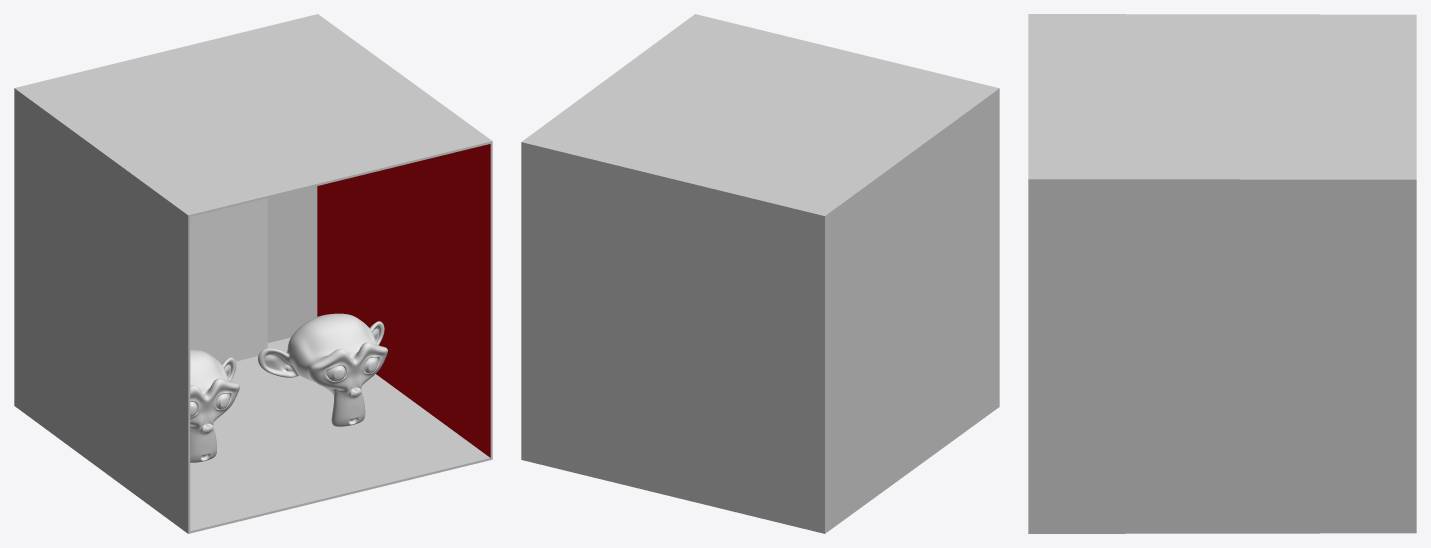
The model's file is Suzanne-Box.glb.
3 views of the same model, side by side, from view 1: azimuth 30°, elevation 25°; view 2: azimuth 150°, elevation 25°; view 3: azimuth 270°, elevation 25° (orthographic). The views are drawn at different scales.
Parts seen in each view (by area): view 1: Cube, Plane.001, Suzanne, Suzanne.001; view 2: Cube; view 3: Cube.
Boxes of the visible parts, x1,y1,x2,y2 form: Cube: (14, 14, 492, 533); Plane.001: (190, 198, 267, 363); Suzanne: (258, 313, 387, 426); Suzanne.001: (190, 349, 239, 462); Cube: (521, 14, 999, 533); Cube: (1028, 14, 1416, 533).
Size of the model in its own units: 2.03 by 2.04 by 2.01.
